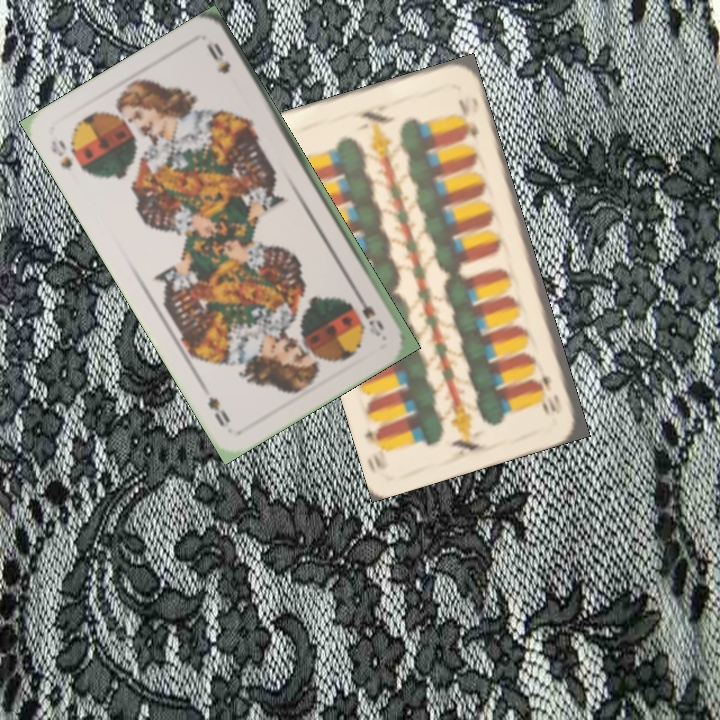E10: (537, 371, 565, 416)
SO: (350, 286, 387, 340), (47, 135, 76, 172)
